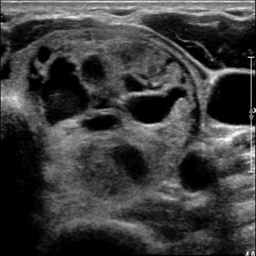mass: (29, 32, 200, 186)
